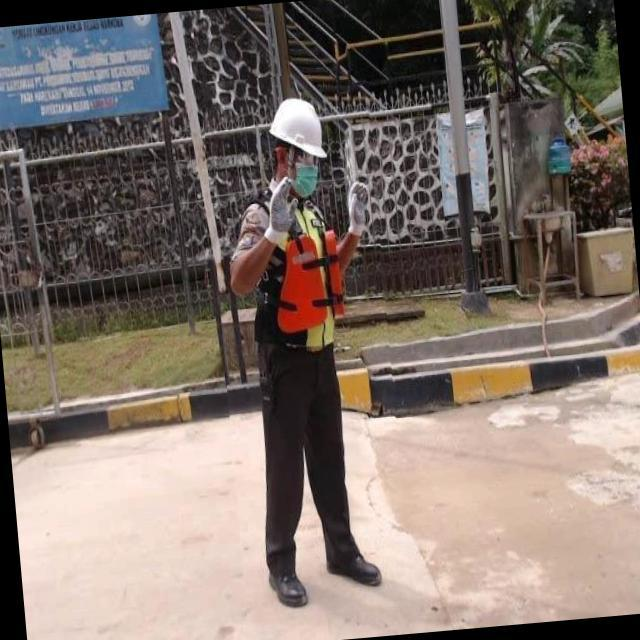Gloves: (260, 174, 303, 252), (339, 174, 385, 243)
Helmet: (263, 90, 334, 167)
Person: (204, 74, 414, 625)
Safety Boot: (322, 537, 393, 596), (266, 563, 317, 619)
Safety Vest: (251, 189, 359, 358)
